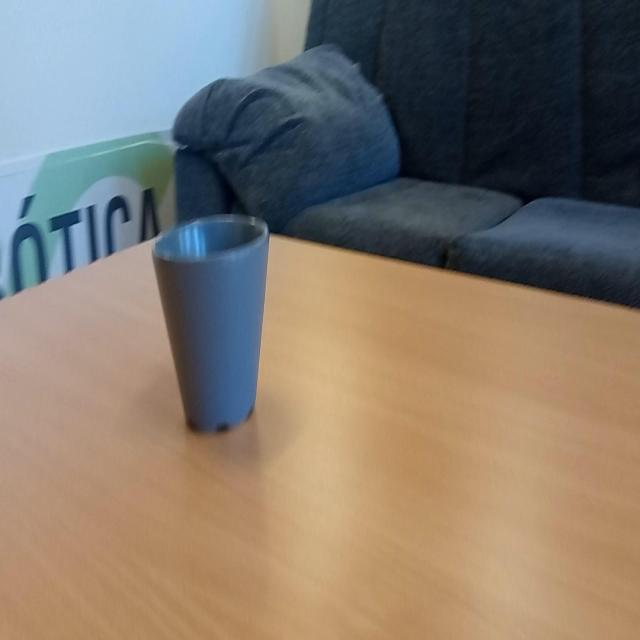cup: (150, 218, 270, 433)
